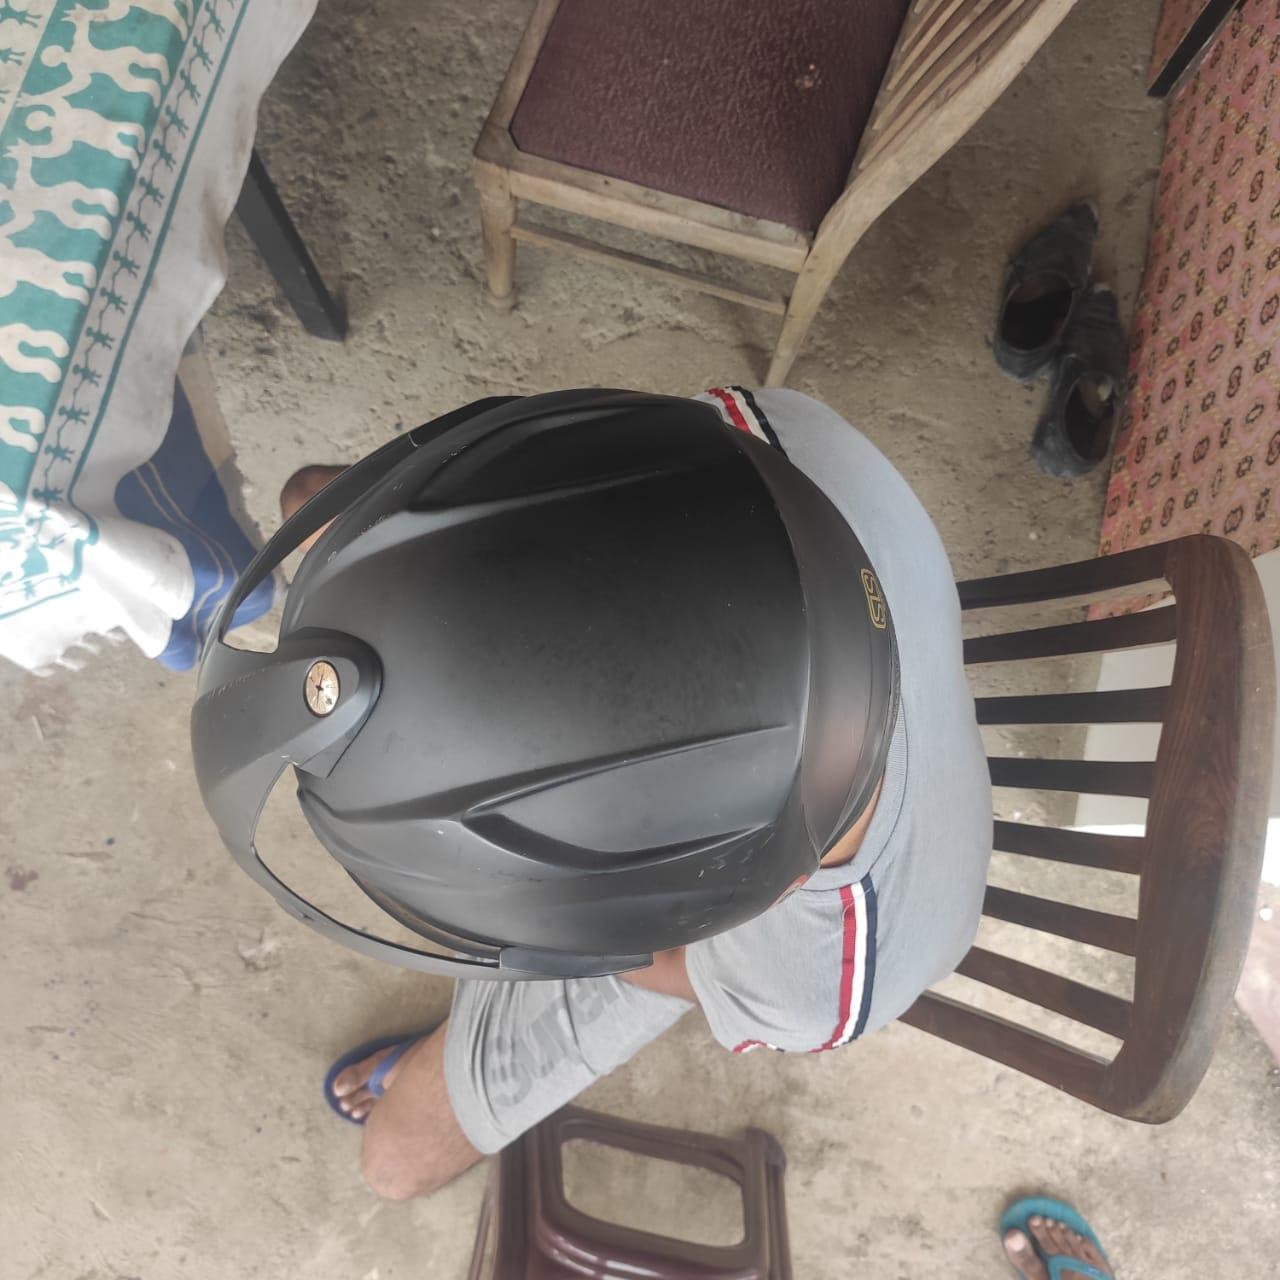helmet: (190, 382, 901, 983)
